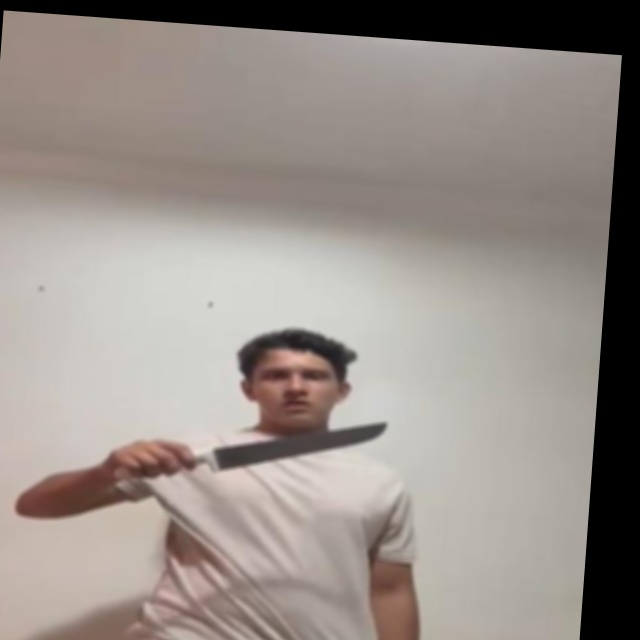Sharp-Object: (215, 409, 388, 478)
